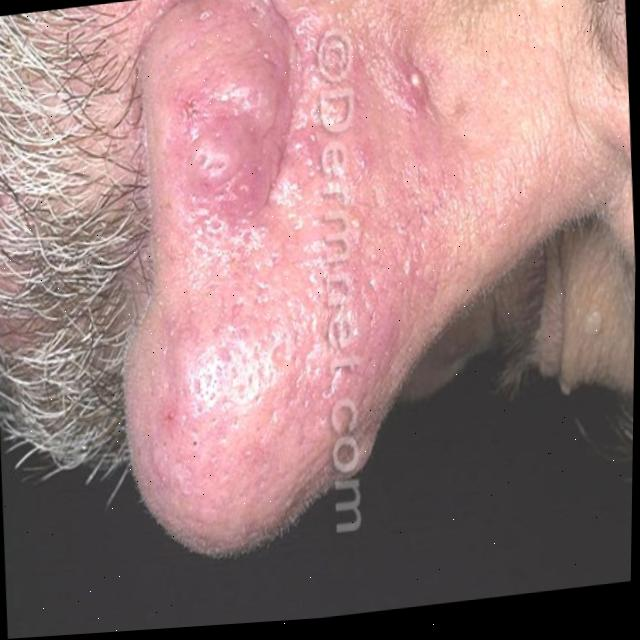Rosacea: (127, 25, 474, 528)
